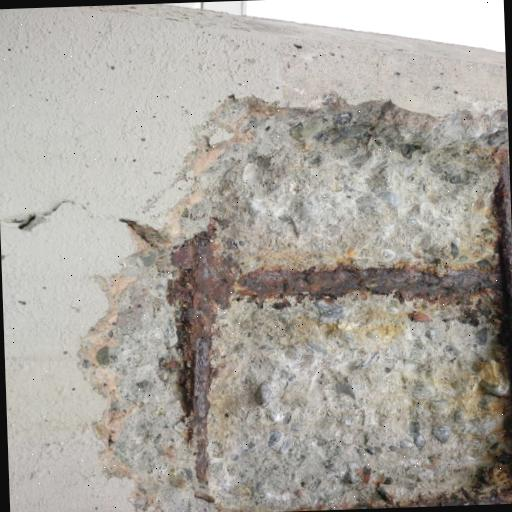spalling: (87, 106, 512, 512)
